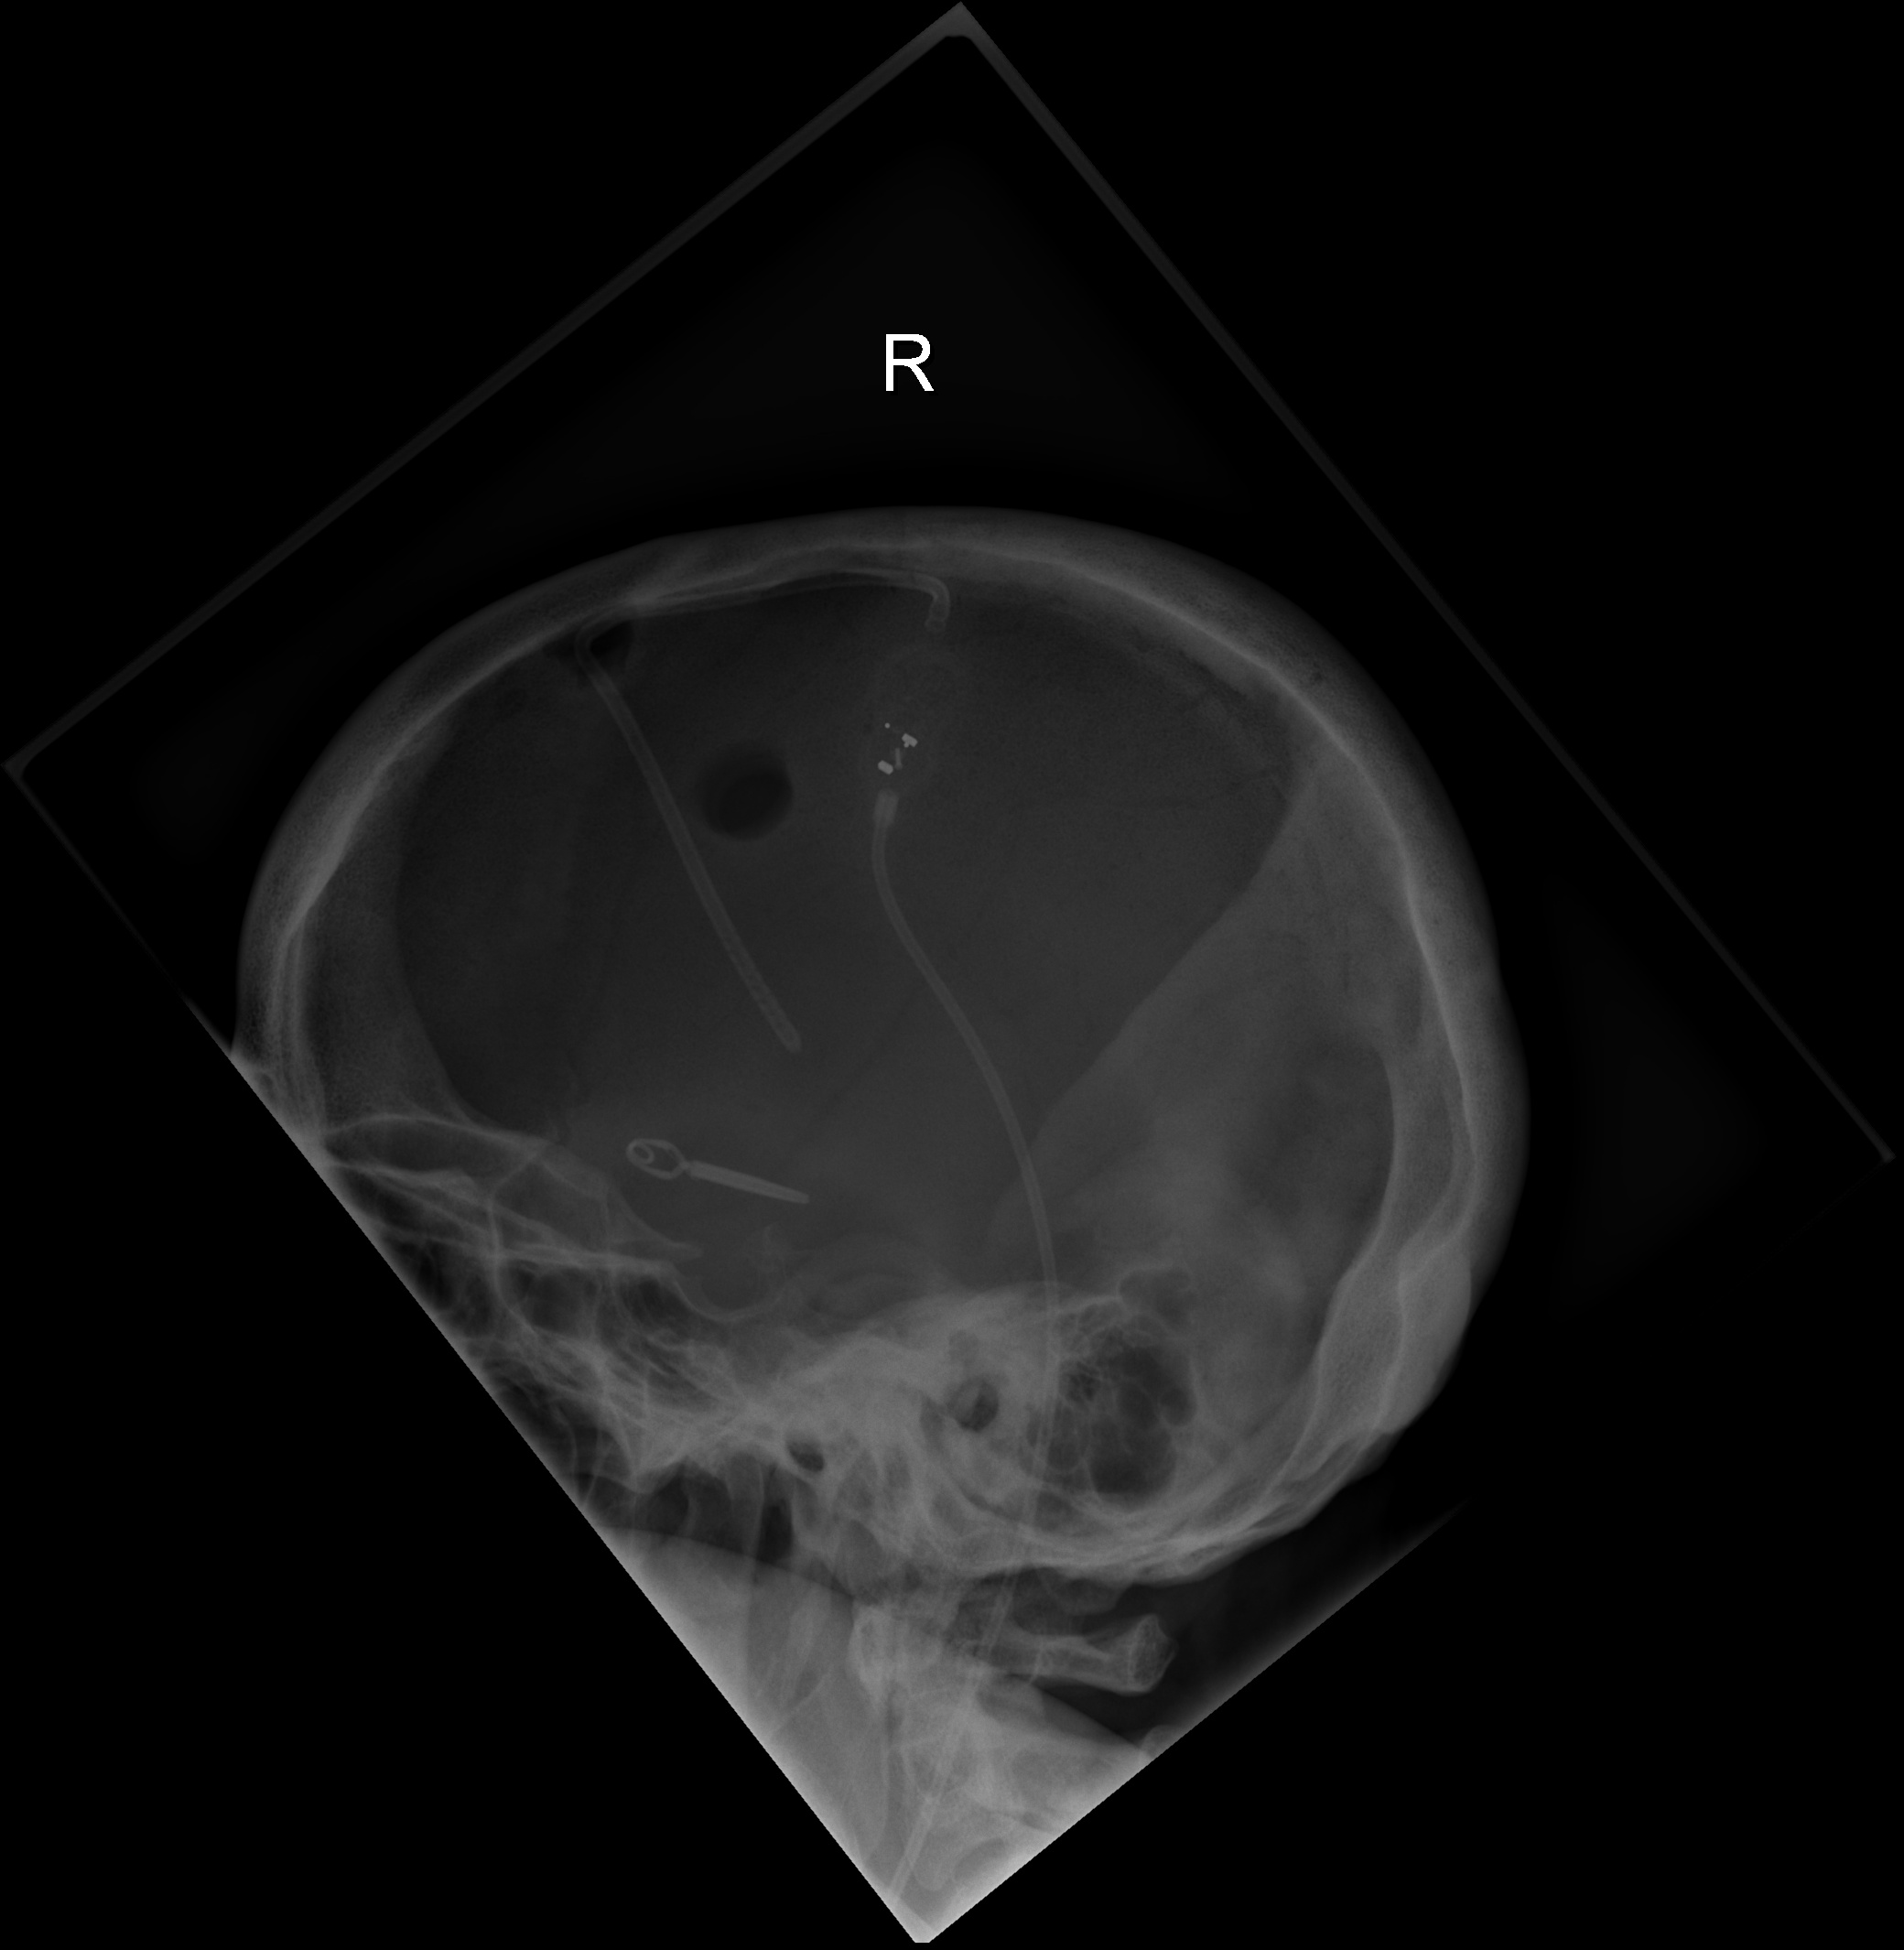Codman Certas: (861, 712, 938, 795)
